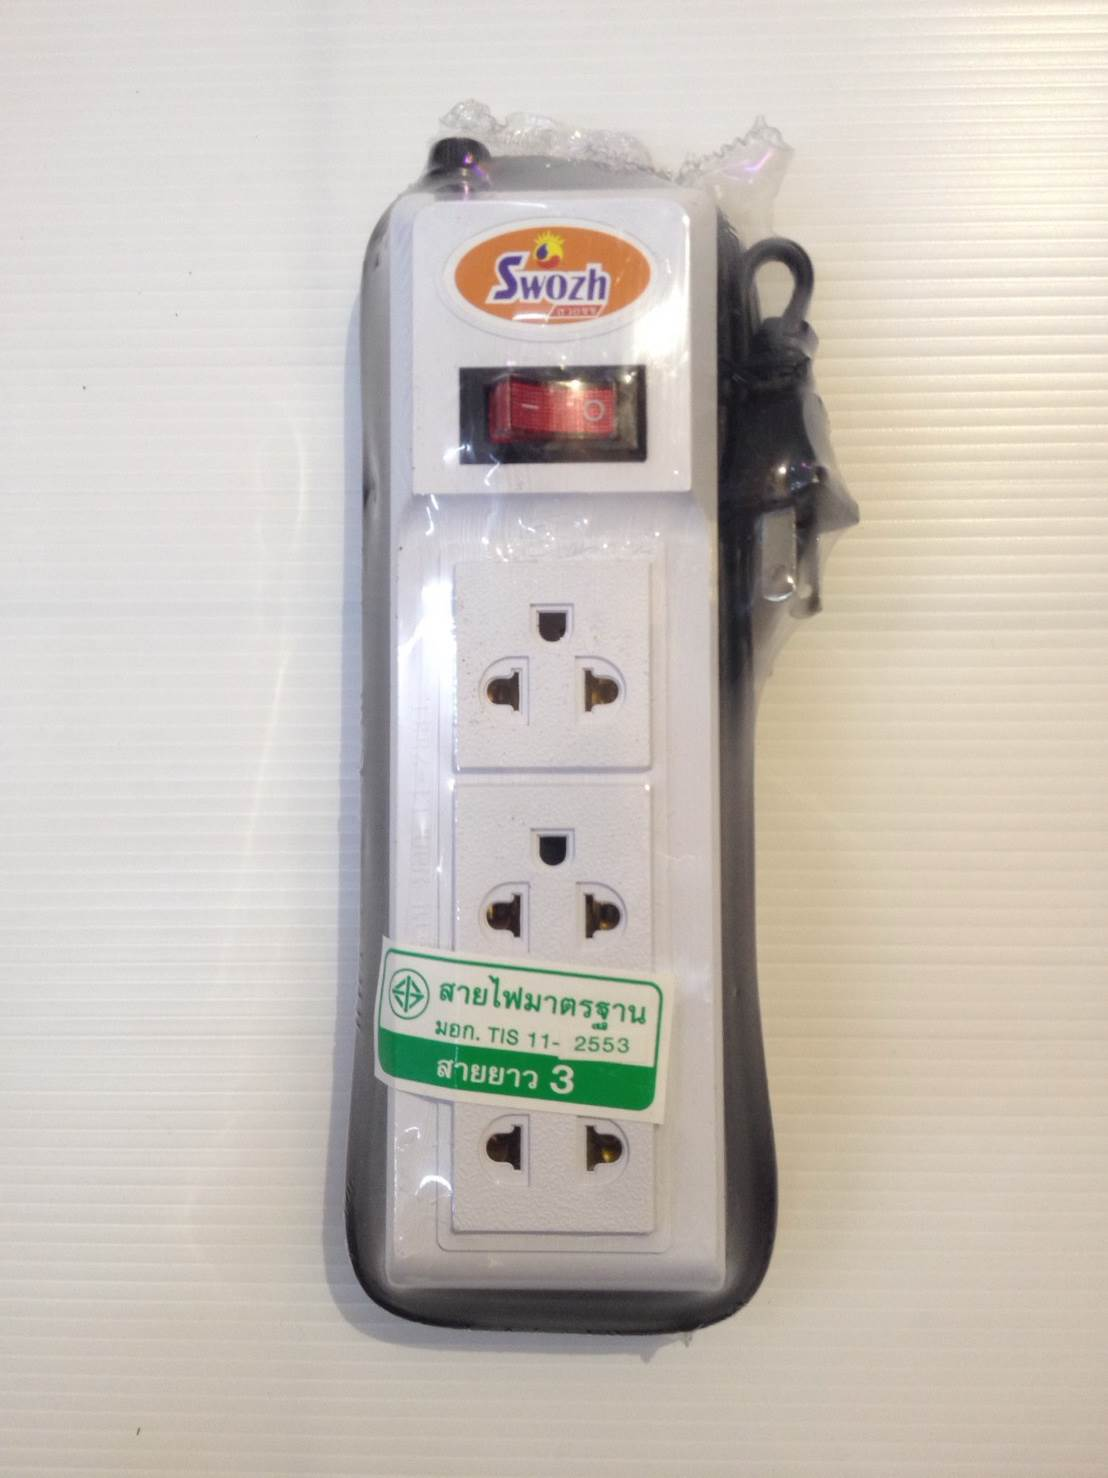Three_eye_plug: (351, 128, 759, 1317)
